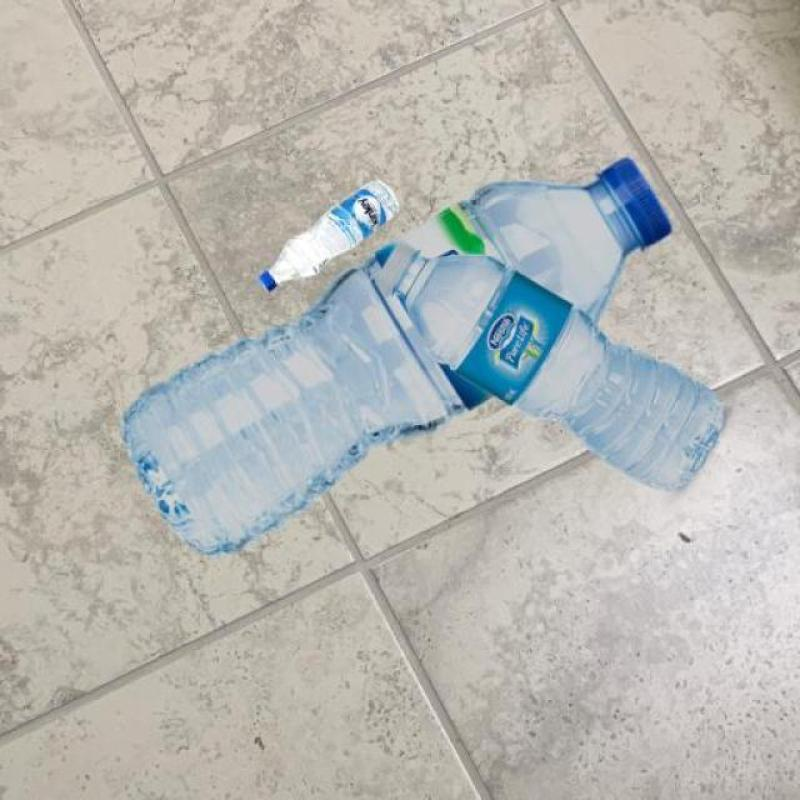botella: (120, 157, 670, 551), (376, 242, 726, 492), (259, 177, 401, 293)
